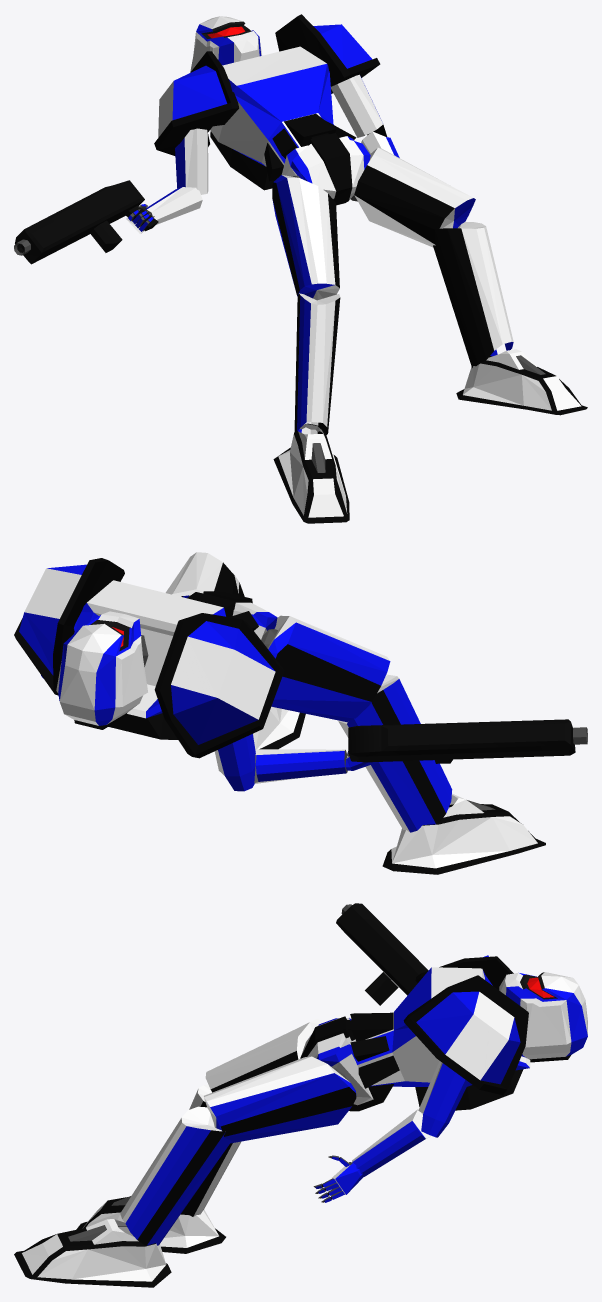
File: robots_000023.obj
3 renders of one model, top to bottom at view 1: azimuth 30°, elevation 25°; view 2: azimuth 150°, elevation 25°; view 3: azimuth 270°, elevation 25°, orthographic. The views are drawn at different scales.
Visible parts, largest first — view 1: Chest_plate_Cube.004, R_Shin.002_Cube.029, R_Thigh.002_Cube.027, R_Thigh_Cube.005, Cube_Cube.001, R_Shin_Cube.007, R_Foot.002_Cube.035, R_Foot_Cube, Cube.002_Cube.059, Pelvis_Cube.006, Cube_Cube.021, Head_base_Cube.022 (+3 smaller); view 2: Cube.002_Cube.059, R_Thigh_Cube.005, Cube_Cube.001, Head_base_Cube.022, Chest_plate_Cube.004, R_Foot_Cube, R_Shin_Cube.007, Cube_Cube.021, R_Forearm_Cube.008, R_Thigh.002_Cube.027, R_Arm_Cube.002, R_Foot.002_Cube.035 (+1 smaller); view 3: Cube_Cube.021, R_Thigh.002_Cube.027, Chest_plate_Cube.004, R_Foot.002_Cube.035, R_Shin.002_Cube.029, Head_base_Cube.022, Cube_Cube.001, Pelvis_Cube.006, R_Thigh_Cube.005, R_Foot_Cube, L_Arm_Cube.014, L_Forearm_Cube.020 (+3 smaller).
Boxes of the visible parts, x1,y1,x2,y2 form: Chest_plate_Cube.004: (210, 46, 356, 190); R_Shin.002_Cube.029: (433, 222, 513, 367); R_Thigh.002_Cube.027: (354, 147, 475, 247); R_Thigh_Cube.005: (272, 175, 339, 300); Cube_Cube.001: (14, 180, 158, 264); R_Shin_Cube.007: (294, 293, 340, 434); R_Foot.002_Cube.035: (456, 349, 587, 415); R_Foot_Cube: (273, 423, 349, 523); Cube.002_Cube.059: (154, 51, 238, 155); Pelvis_Cube.006: (281, 133, 370, 205); Cube_Cube.021: (275, 14, 380, 93); Head_base_Cube.022: (190, 16, 261, 71); Cube.002_Cube.059: (154, 613, 284, 758); R_Thigh_Cube.005: (267, 615, 390, 722); Cube_Cube.001: (348, 719, 587, 763); Head_base_Cube.022: (56, 611, 147, 729); Chest_plate_Cube.004: (74, 580, 258, 739); R_Foot_Cube: (382, 793, 545, 874); R_Shin_Cube.007: (338, 674, 452, 832); Cube_Cube.021: (14, 558, 124, 695); R_Forearm_Cube.008: (254, 749, 347, 783); R_Thigh.002_Cube.027: (165, 552, 238, 596); R_Arm_Cube.002: (214, 734, 255, 791); R_Foot.002_Cube.035: (253, 706, 305, 749); Cube_Cube.021: (403, 975, 528, 1095); R_Thigh.002_Cube.027: (204, 1056, 356, 1143); Chest_plate_Cube.004: (350, 967, 530, 1110); R_Foot.002_Cube.035: (14, 1219, 171, 1287); R_Shin.002_Cube.029: (120, 1106, 231, 1245); Head_base_Cube.022: (499, 972, 587, 1062); Cube_Cube.001: (336, 903, 428, 1005); Pelvis_Cube.006: (300, 1016, 393, 1111); R_Thigh_Cube.005: (205, 1018, 324, 1092); R_Foot_Cube: (76, 1196, 225, 1253); L_Arm_Cube.014: (418, 1061, 468, 1137); L_Forearm_Cube.020: (352, 1109, 430, 1177).
Bounding box in the file's own units: 2.67 × 1.99 × 3.02.
